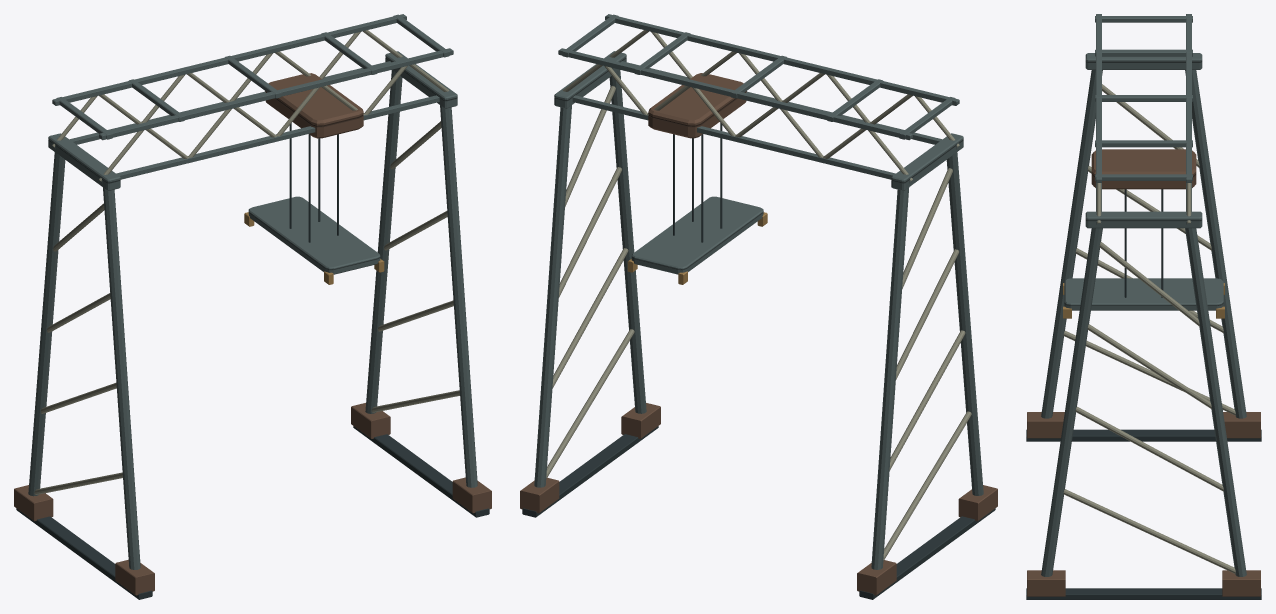
Rendered from SR-02_transfer_span.glb.
3 renders of one model, left to right at view 1: azimuth 30°, elevation 25°; view 2: azimuth 150°, elevation 25°; view 3: azimuth 270°, elevation 25°, orthographic. The views are drawn at different scales.
Parts seen in each view (by area): view 1: SR-02_transfer_span; view 2: SR-02_transfer_span; view 3: SR-02_transfer_span.
Boxes of the visible parts, x1,y1,x2,y2 form: SR-02_transfer_span: (14, 14, 491, 599); SR-02_transfer_span: (520, 14, 997, 599); SR-02_transfer_span: (1026, 14, 1261, 599).
Size of the model in its own units: 14.81 by 17.38 by 8.8.
